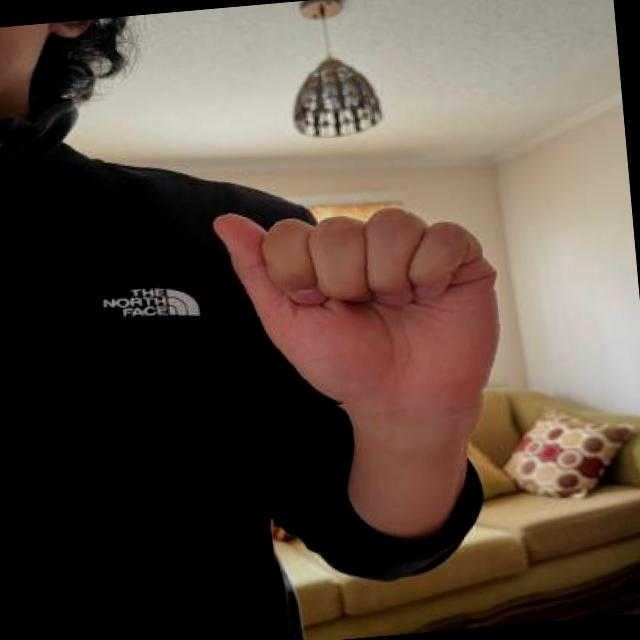A: (204, 178, 510, 416)
